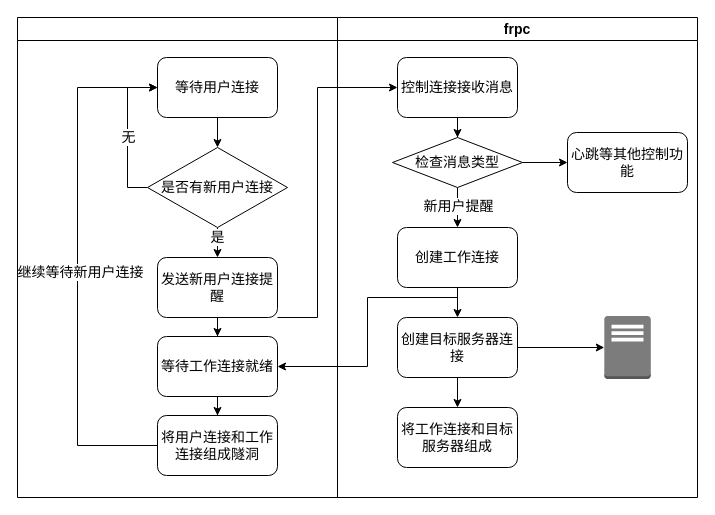
Some shapes in this 715 by 515 pixel diagram are drawn without their labels. Each missing label, with the centre of its shape:
"frps" goes at point 177,257.
"目标服务器" goes at point 627,347.
